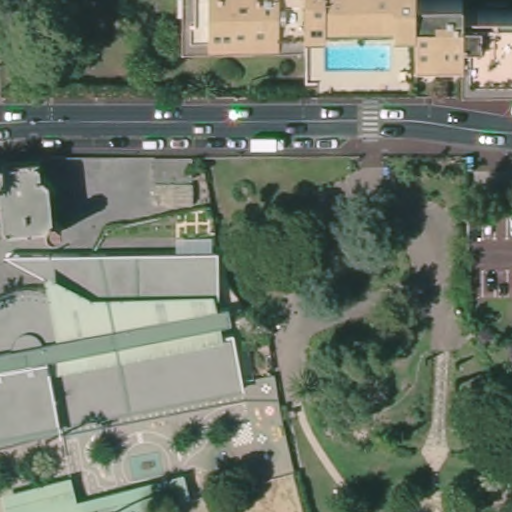pool: (319, 39, 398, 72)
